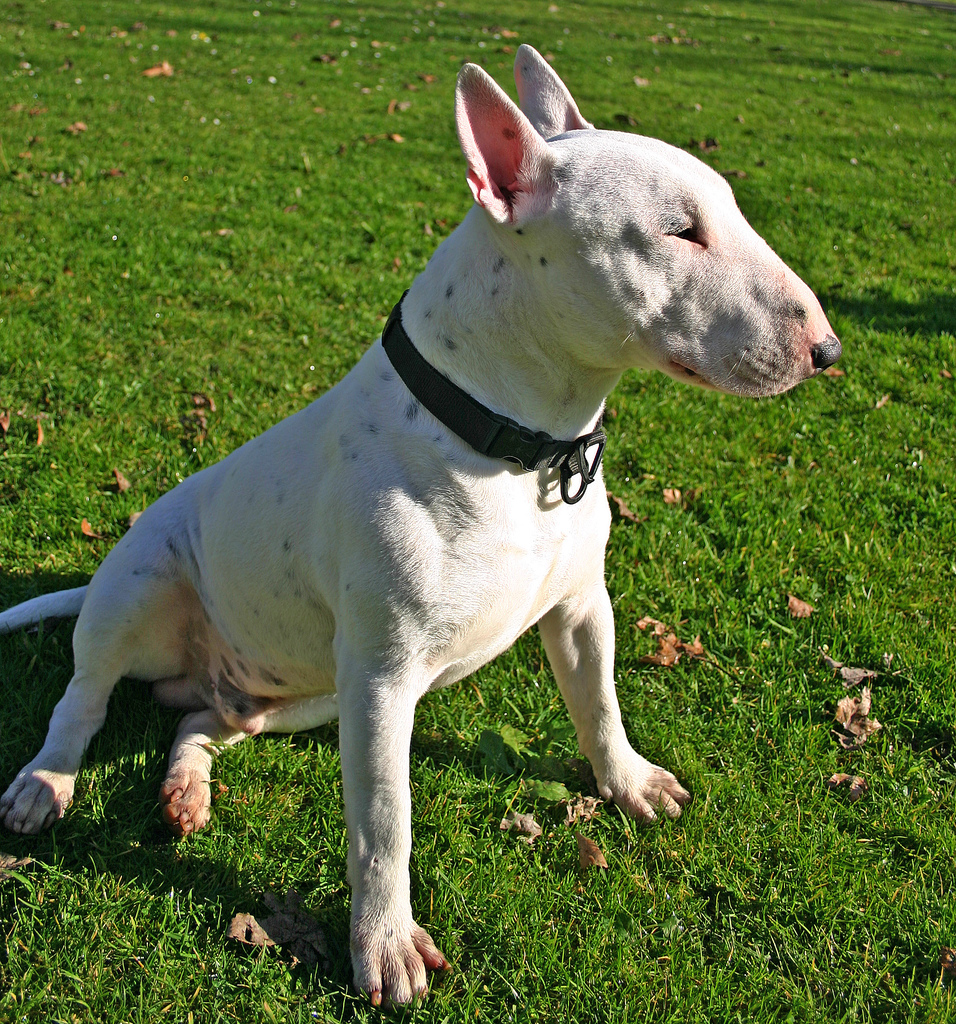bull_terrier: (0, 39, 842, 1011)
